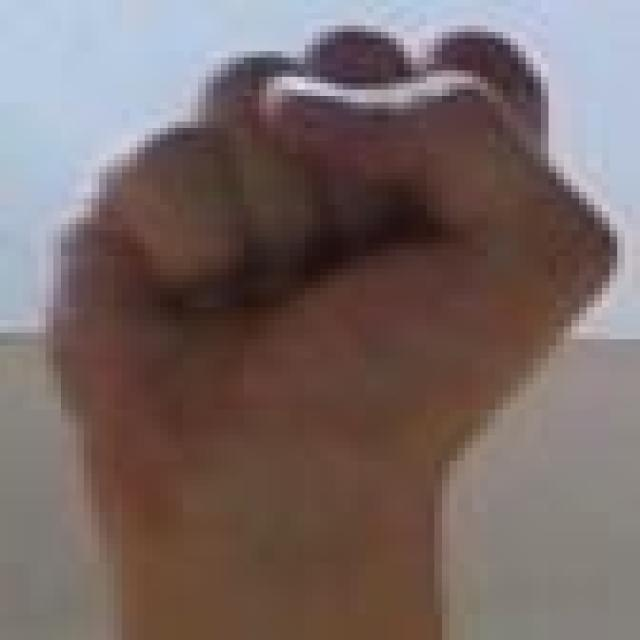S: (0, 0, 640, 464)
